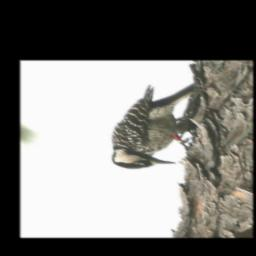Woodpecker: (111, 83, 201, 169)
